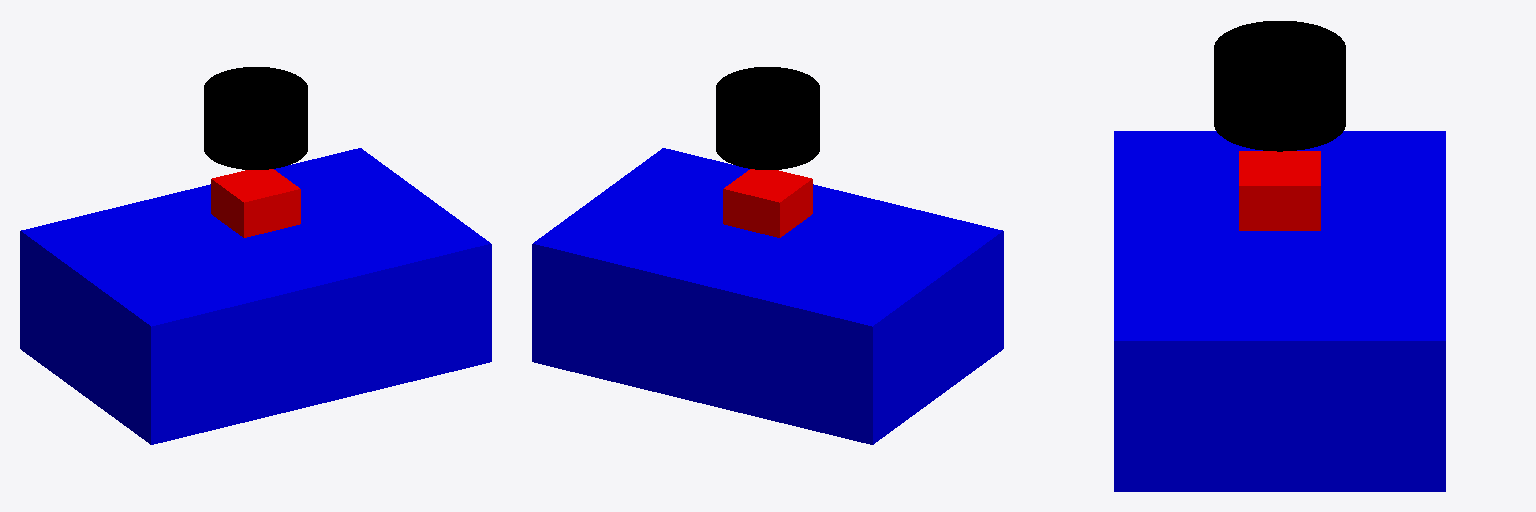
URDF robot description (mark3):
<?xml version="1.0"?>
<robot name="mark3" xmlns:xacro="http://ros.org/wiki/xacro">

  <!-- ================== BASE FOOTPRINT ================== -->
  <link name="base_footprint"/>
  <joint name="base_joint" type="fixed">
    <parent link="base_footprint"/>
    <child link="base_link"/>
    <origin xyz="0 0 0.05" rpy="0 0 0"/>
  </joint>

  <!-- ================== BASE LINK ================== -->
  <link name="base_link">
    <visual>
      <geometry>
        <box size="0.3 0.2 0.1"/>
      </geometry>
      <material name="blue">
        <color rgba="0 0 1 1"/>
      </material>
    </visual>
    <collision>
      <geometry>
        <box size="0.3 0.2 0.1"/>
      </geometry>
    </collision>
    <inertial>
      <mass value="2.0"/>
      <inertia ixx="0.1" ixy="0.0" ixz="0.0"
               iyy="0.1" iyz="0.0" izz="0.1"/>
    </inertial>
  </link>

  <!-- ================== WHEELS ================== -->
  <!-- Front Left -->
  <link name="wheel_left_front"/>
  <joint name="wheel_left_front_joint" type="continuous">
    <origin xyz="0.12 0.1 0" rpy="0 0 0"/>
    <parent link="base_link"/>
    <child link="wheel_left_front"/>
    <axis xyz="0 1 0"/>
  </joint>

  <!-- Front Right -->
  <link name="wheel_right_front"/>
  <joint name="wheel_right_front_joint" type="continuous">
    <origin xyz="0.12 -0.1 0" rpy="0 0 0"/>
    <parent link="base_link"/>
    <child link="wheel_right_front"/>
    <axis xyz="0 1 0"/>
  </joint>

  <!-- Rear Left -->
  <link name="wheel_left_back"/>
  <joint name="wheel_left_back_joint" type="continuous">
    <origin xyz="-0.12 0.1 0" rpy="0 0 0"/>
    <parent link="base_link"/>
    <child link="wheel_left_back"/>
    <axis xyz="0 1 0"/>
  </joint>

  <!-- Rear Right -->
  <link name="wheel_right_back"/>
  <joint name="wheel_right_back_joint" type="continuous">
    <origin xyz="-0.12 -0.1 0" rpy="0 0 0"/>
    <parent link="base_link"/>
    <child link="wheel_right_back"/>
    <axis xyz="0 1 0"/>
  </joint>

  <!-- ================== LIDAR ================== -->
  <link name="laser">
    <visual>
      <geometry>
        <cylinder radius="0.04" length="0.05"/>
      </geometry>
      <material name="black">
        <color rgba="0 0 0 1"/>
      </material>
    </visual>
  </link>

  <joint name="lidar_joint" type="fixed">
    <origin xyz="0 0 0.15" rpy="0 0 0"/>
    <parent link="base_link"/>
    <child link="laser"/>
  </joint>

  <gazebo reference="laser">
    <sensor name="lidar" type="gpu_lidar">
      <update_rate>20</update_rate>
      <lidar>
        <horizontal>
          <samples>360</samples>
          <resolution>1</resolution>
          <min_angle>-3.14</min_angle>
          <max_angle>3.14</max_angle>
        </horizontal>
        <vertical>
          <samples>1</samples>
          <resolution>1</resolution>
          <min_angle>0</min_angle>
          <max_angle>0</max_angle>
        </vertical>
        <range>
          <min>0.12</min>
          <max>10.0</max>
          <resolution>0.01</resolution>
        </range>
      </lidar>
    </sensor>
  </gazebo>

  <!-- ================== IMU ================== -->
  <link name="imu_link">
    <visual>
      <geometry>
        <box size="0.05 0.05 0.03"/>
      </geometry>
      <material name="red">
        <color rgba="1 0 0 1"/>
      </material>
    </visual>
  </link>

  <joint name="imu_joint" type="fixed">
    <origin xyz="0 0 0.08" rpy="0 0 0"/>
    <parent link="base_link"/>
    <child link="imu_link"/>
  </joint>

  <gazebo reference="imu_link">
    <sensor name="imu" type="imu">
      <always_on>true</always_on>
      <update_rate>50</update_rate>
      <visualize>false</visualize>
    </sensor>
  </gazebo>

  <!-- ================== DIFF DRIVE CONTROL ================== -->
  <gazebo>
    <plugin name="diff_drive" filename="gz-sim-diff-drive-system">
      <left_joint>wheel_left_front_joint</left_joint>
      <left_joint>wheel_left_back_joint</left_joint>
      <right_joint>wheel_right_front_joint</right_joint>
      <right_joint>wheel_right_back_joint</right_joint>
      <wheel_separation>0.20</wheel_separation>
      <wheel_radius>0.03</wheel_radius>
      <topic>cmd_vel</topic>
      <odom_topic>odom</odom_topic>
      <frame_id>odom</frame_id>
      <child_frame_id>base_link</child_frame_id>
      <publish_rate>50</publish_rate>
    </plugin>
  </gazebo>

</robot>

--- Render facts (derived) ---
The picture shows the robot from 3 angles, left to right: view 1: azimuth 30°, elevation 25°; view 2: azimuth 150°, elevation 25°; view 3: azimuth 270°, elevation 25°; orthographic projection.
Model mark3 with 8 links and 7 joints (4 continuous, 3 fixed), rooted at base_footprint, posed all joints at 0.
Visible links, largest first — view 1: base_link, laser, imu_link; view 2: base_link, laser, imu_link; view 3: base_link, laser, imu_link.
Link boxes in pixels (box(x1,y1,x2,y2)): base_link: box(20, 148, 491, 444); laser: box(204, 67, 307, 169); imu_link: box(211, 169, 300, 237); base_link: box(532, 148, 1003, 444); laser: box(716, 67, 819, 169); imu_link: box(723, 169, 812, 237); base_link: box(1114, 131, 1445, 491); laser: box(1214, 21, 1345, 151); imu_link: box(1239, 151, 1320, 230).
Bounding box of the posed robot: 0.3 × 0.2 × 0.225 m (x, y, z).
Geometry: primitives only (box / cylinder / sphere), no mesh files.